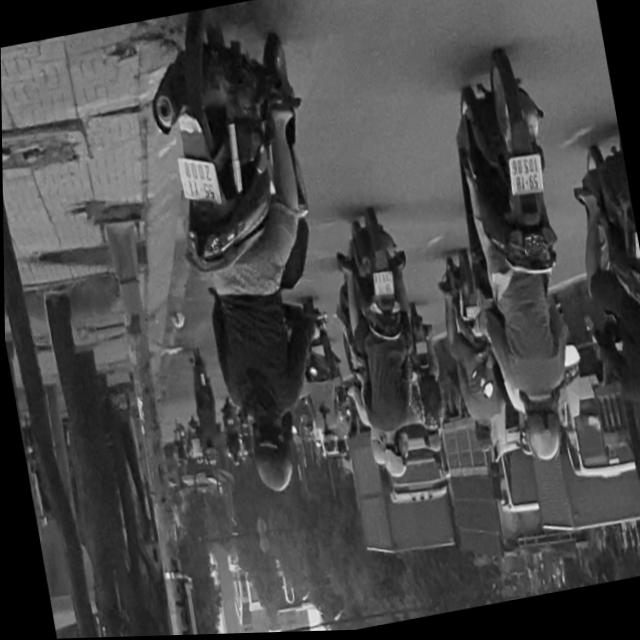helmet: (244, 416, 300, 499), (518, 395, 567, 469), (377, 433, 410, 484), (636, 407, 640, 465)
licenseplate: (134, 0, 369, 514), (433, 42, 603, 477), (321, 204, 441, 488), (559, 129, 640, 475)
nohelmet: (174, 150, 219, 210), (507, 158, 544, 201), (370, 271, 394, 298)
